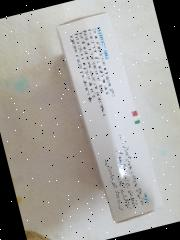paper: (56, 10, 165, 226)
